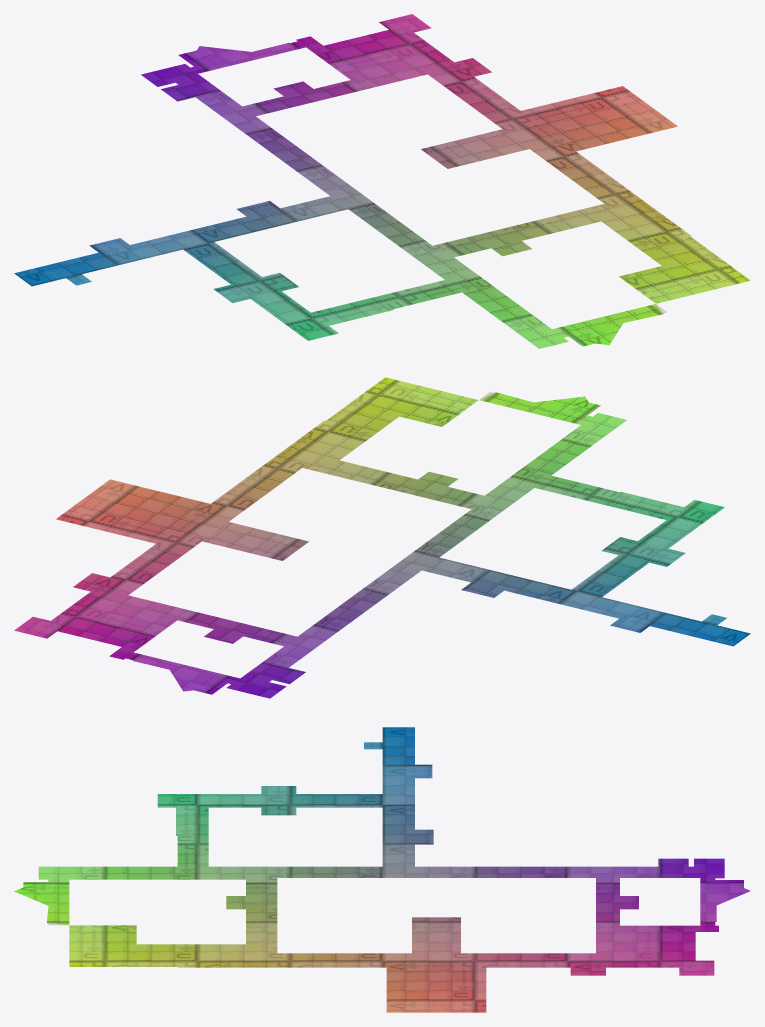
The model's file is Floor5Floor.fbx.
3 views of the same model, one above another, from view 1: azimuth 30°, elevation 25°; view 2: azimuth 150°, elevation 25°; view 3: azimuth 270°, elevation 25° (orthographic). The views are drawn at different scales.
Visible parts, largest first — view 1: Floor5Floor; view 2: Floor5Floor; view 3: Floor5Floor.
Boxes of the visible parts, x1=… form: Floor5Floor: x1=14, y1=14, x2=750, y2=348; Floor5Floor: x1=14, y1=377, x2=750, y2=698; Floor5Floor: x1=14, y1=727, x2=750, y2=1012.
Size of the model in its own units: 2219 by 0.00848 by 2424.
